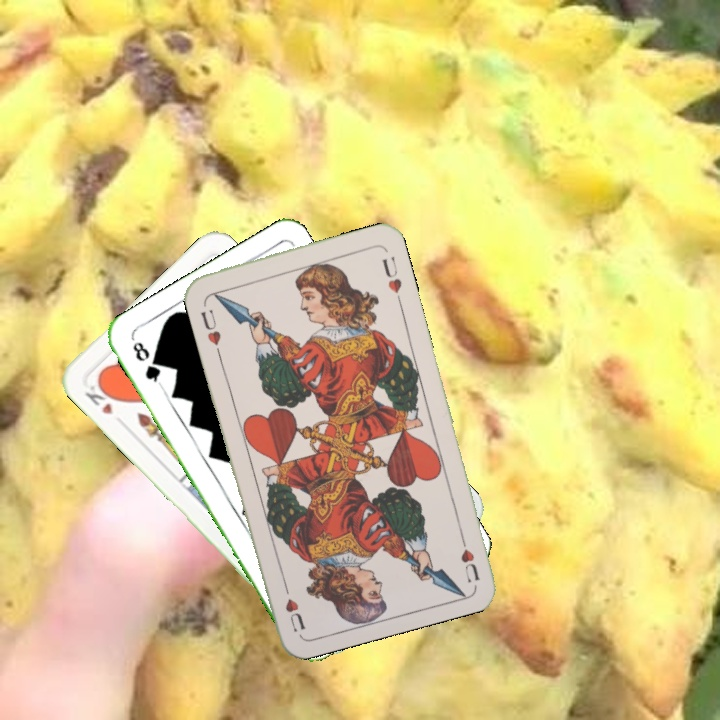G8: (128, 337, 165, 389)
HK: (80, 377, 120, 418)
HU: (455, 527, 482, 584), (197, 307, 224, 355)
